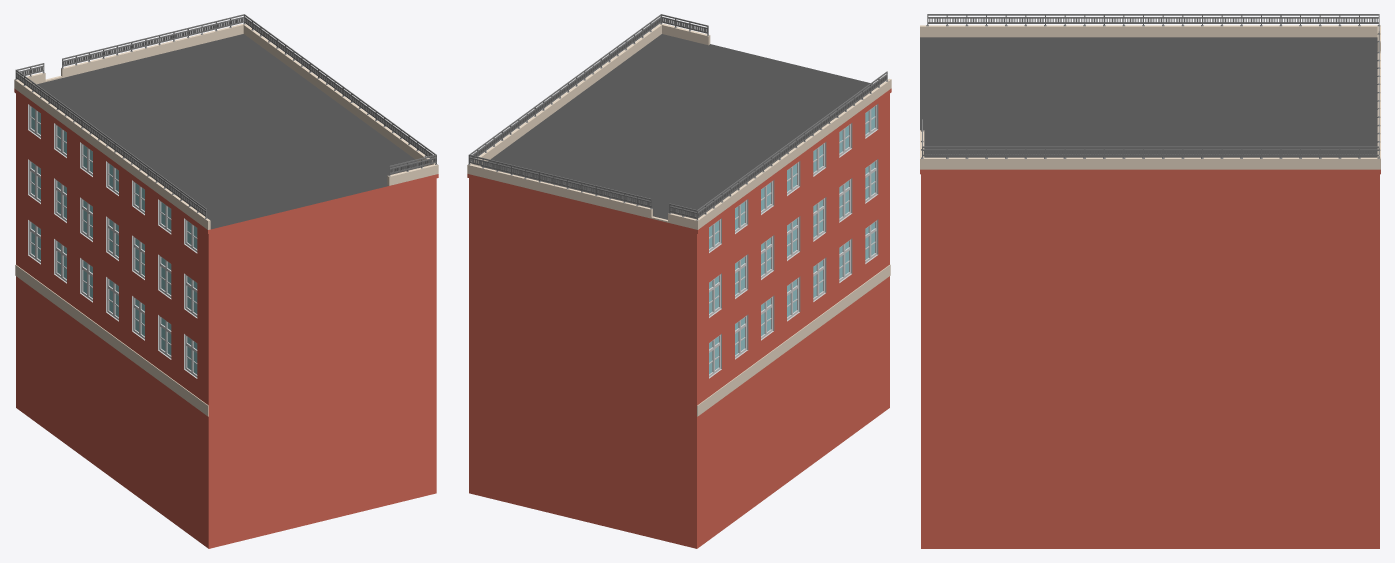
Rendered from Building_12.fbx.
3 views of the same model, side by side, from view 1: azimuth 30°, elevation 25°; view 2: azimuth 150°, elevation 25°; view 3: azimuth 270°, elevation 25° (orthographic). The views are drawn at different scales.
Parts seen in each view (by area): view 1: Building_12; view 2: Building_12; view 3: Building_12.
Boxes of the visible parts, x1,y1,x2,y2 form: Building_12: [14, 14, 438, 548]; Building_12: [467, 14, 891, 548]; Building_12: [920, 14, 1380, 548].
Size of the model in its own units: 1329 by 1864 by 1934.
